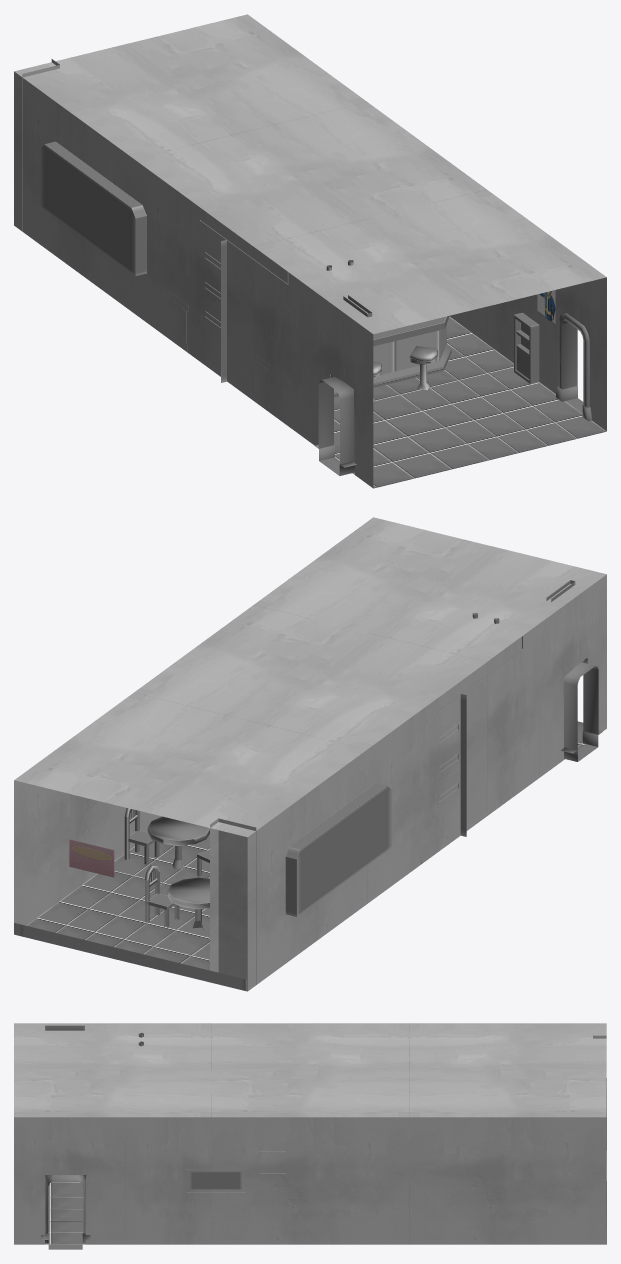
The model's file is MSH_Bar_room_L3_R1_optimized.fbx.
The picture shows the model from 3 angles, top to bottom: view 1: azimuth 30°, elevation 25°; view 2: azimuth 150°, elevation 25°; view 3: azimuth 270°, elevation 25°; orthographic projection. The views are drawn at different scales.
Visible parts, largest first — view 1: lightmap1, lightmap2, lightmap-1; view 2: lightmap1, lightmap2, lightmap-1; view 3: lightmap1, lightmap2, lightmap-1.
Boxes of the visible parts, x1,y1,x2,y2 form: lightmap1: (14,14,606,488); lightmap2: (22,59,555,401); lightmap-1: (318,320,583,475); lightmap1: (14,517,606,991); lightmap2: (69,613,522,984); lightmap-1: (563,662,598,761); lightmap1: (14,1023,606,1244); lightmap2: (138,1032,606,1192); lightmap-1: (48,1175,83,1249).
Size of the model in its own units: 10.3 by 6.07 by 24.78.
6 materials, 5 textured.
